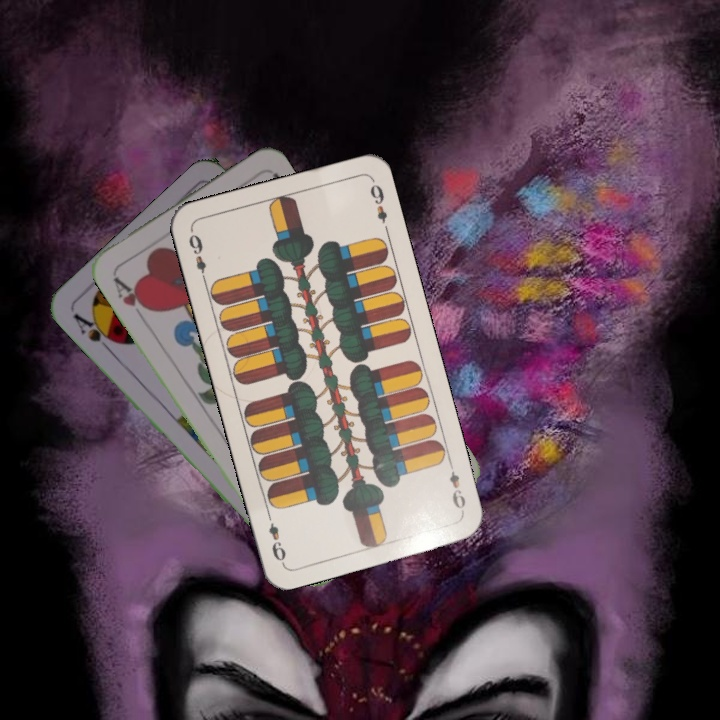E9: (184, 230, 209, 285), (445, 457, 468, 516)
HA: (109, 269, 154, 322)
SA: (69, 309, 121, 355)
